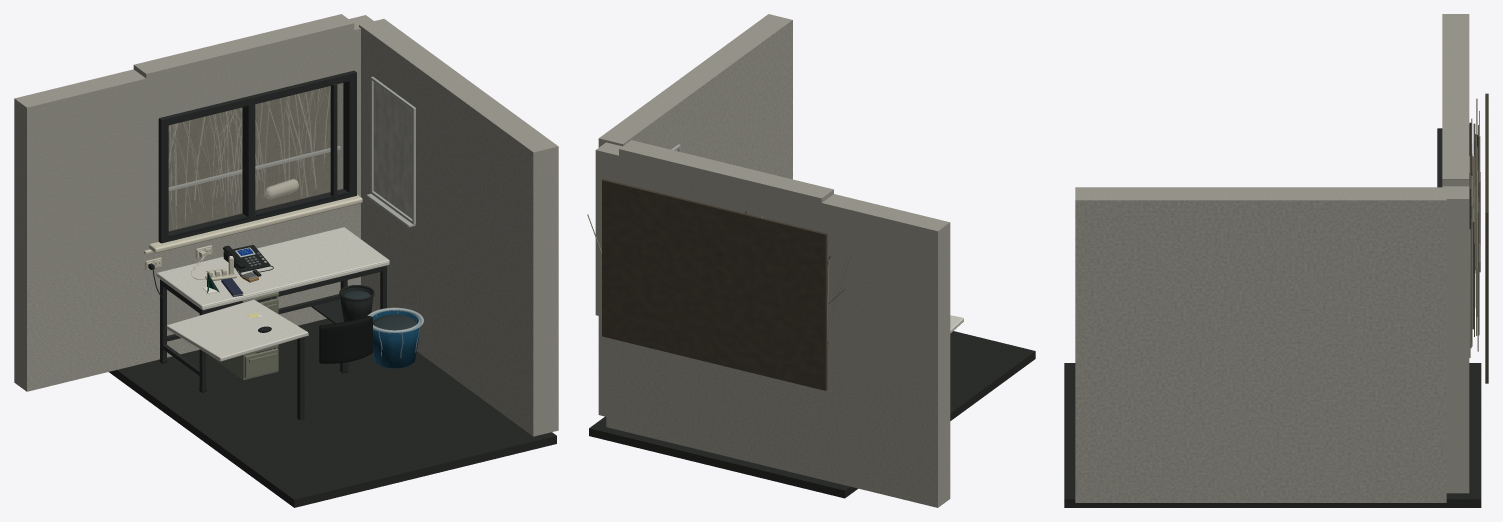
File: kimik3.1_wours.glb
3 renders of one model, left to right at view 1: azimuth 30°, elevation 25°; view 2: azimuth 150°, elevation 25°; view 3: azimuth 270°, elevation 25°, orthographic. The views are drawn at different scales.
Visible parts, largest first — view 1: Right wall | visible interior return, Floor | charcoal carpet, Back wall | left pier, Back wall | below window, Back wall | above crop, Exterior | only the window-visible backdrop, Window | glass light 2, Window | glass light 1, Main desk | laminate top, Foreground desk | pale laminate top, Whiteboard | enamel writing surface, Chair | curved upholstered backrest (+15 smaller); view 2: Exterior | only the window-visible backdrop, Back wall | below window, Back wall | left pier, Right wall | visible interior return, Back wall | above crop, Floor | charcoal carpet, Back wall | right pier; view 3: Right wall | visible interior return, Floor | charcoal carpet, Back wall | right pier, Back wall | above crop, Back wall | below window, Back wall | left pier, Exterior | only the window-visible backdrop.
Part boxes in pixels (bbox=[...]): Right wall | visible interior return: bbox=[359, 19, 558, 436]; Floor | charcoal carpet: bbox=[109, 318, 556, 507]; Back wall | left pier: bbox=[14, 69, 160, 279]; Back wall | below window: bbox=[14, 203, 360, 391]; Back wall | above crop: bbox=[133, 14, 354, 128]; Exterior | only the window-visible backdrop: bbox=[168, 84, 338, 230]; Window | glass light 2: bbox=[255, 83, 343, 209]; Window | glass light 1: bbox=[168, 107, 242, 231]; Main desk | laminate top: bbox=[156, 227, 389, 309]; Foreground desk | pale laminate top: bbox=[166, 299, 308, 361]; Whiteboard | enamel writing surface: bbox=[373, 82, 412, 218]; Chair | curved upholstered backrest: bbox=[319, 316, 372, 363]; Exterior | only the window-visible backdrop: bbox=[602, 179, 827, 390]; Back wall | below window: bbox=[606, 337, 950, 507]; Back wall | left pier: bbox=[806, 194, 950, 398]; Right wall | visible interior return: bbox=[598, 14, 792, 416]; Back wall | above crop: bbox=[619, 140, 833, 231]; Floor | charcoal carpet: bbox=[589, 331, 1035, 498]; Back wall | right pier: bbox=[595, 142, 622, 316]; Right wall | visible interior return: bbox=[1075, 187, 1446, 502]; Floor | charcoal carpet: bbox=[1064, 363, 1481, 507]; Back wall | right pier: bbox=[1442, 186, 1469, 379]; Back wall | above crop: bbox=[1442, 71, 1469, 186]; Back wall | below window: bbox=[1446, 379, 1469, 493]; Back wall | left pier: bbox=[1442, 14, 1469, 70]; Exterior | only the window-visible backdrop: bbox=[1485, 93, 1488, 383].
Bounding box in the file's own units: 3.28 × 2.59 × 3.15.
38 materials, 16 textured.
